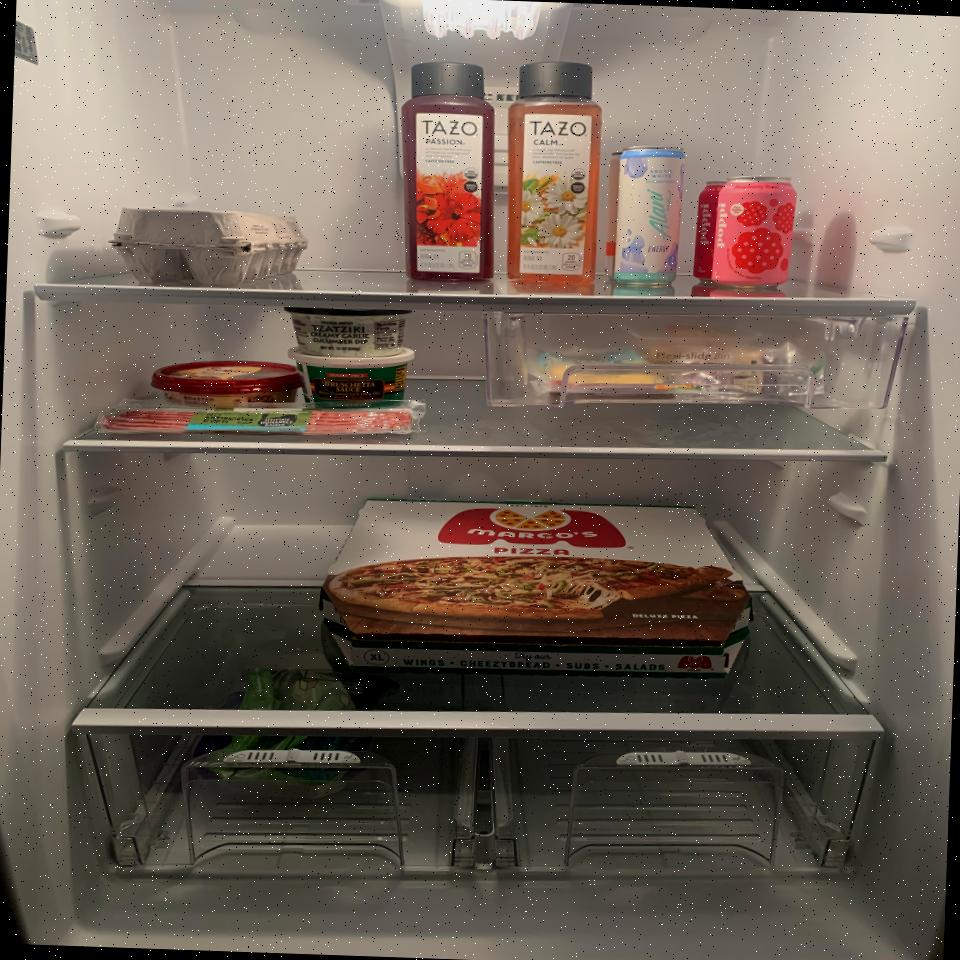Huevos: (108, 207, 311, 289)
